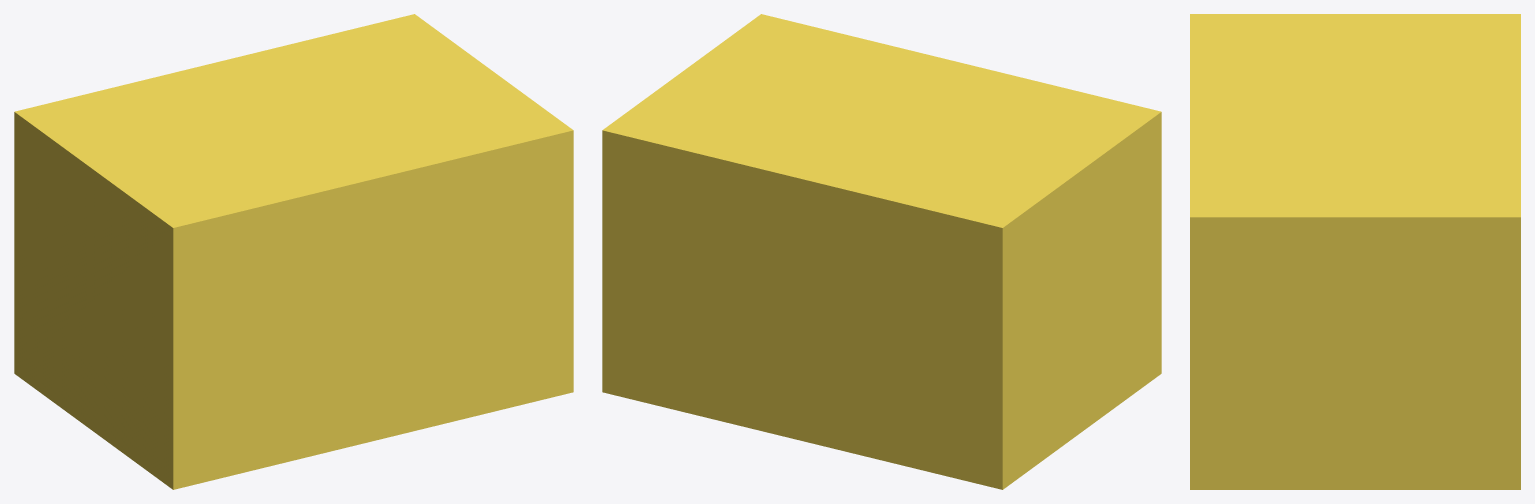
File: duck.glb
3 views of the same model, side by side, from view 1: azimuth 30°, elevation 25°; view 2: azimuth 150°, elevation 25°; view 3: azimuth 270°, elevation 25° (orthographic). The views are drawn at different scales.
Visible parts, largest first — view 1: Fallback_Duck; view 2: Fallback_Duck; view 3: Fallback_Duck.
Part boxes in pixels (left/top/right/bottom): Fallback_Duck: left=14, top=14, right=573, bottom=489; Fallback_Duck: left=602, top=14, right=1161, bottom=489; Fallback_Duck: left=1190, top=14, right=1520, bottom=489.
Bounding box in the file's own units: 1.6 × 1 × 1.1.
